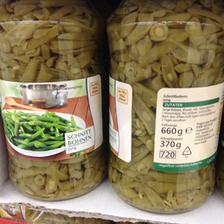beans: (106, 2, 221, 217), (1, 1, 105, 203)
